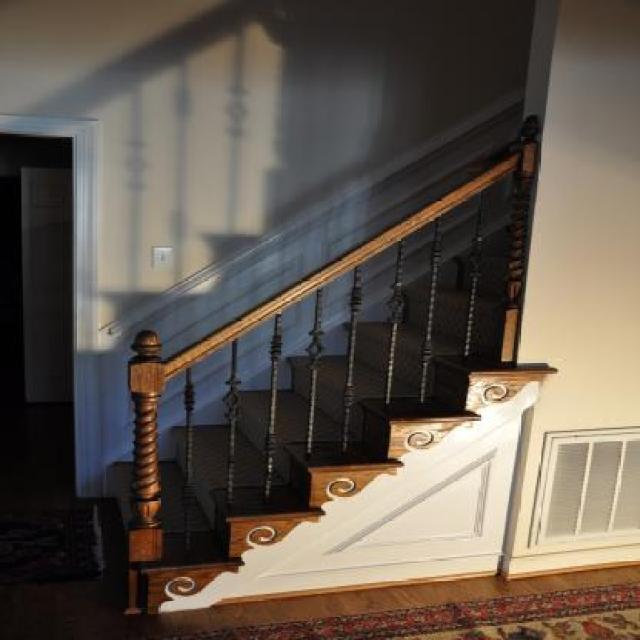stair: (111, 223, 558, 615)
